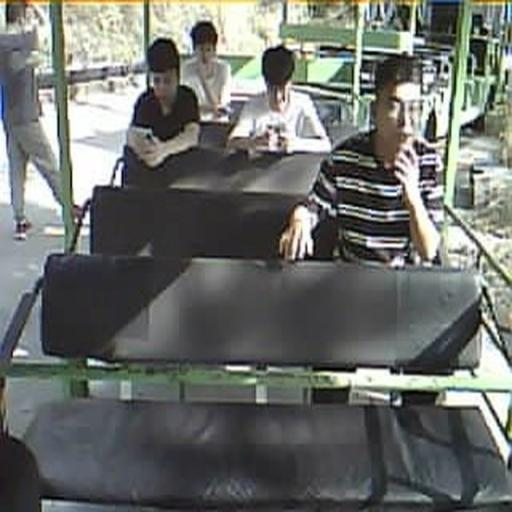persona: (278, 54, 447, 269), (228, 44, 332, 156), (124, 36, 202, 185), (181, 20, 233, 121)
